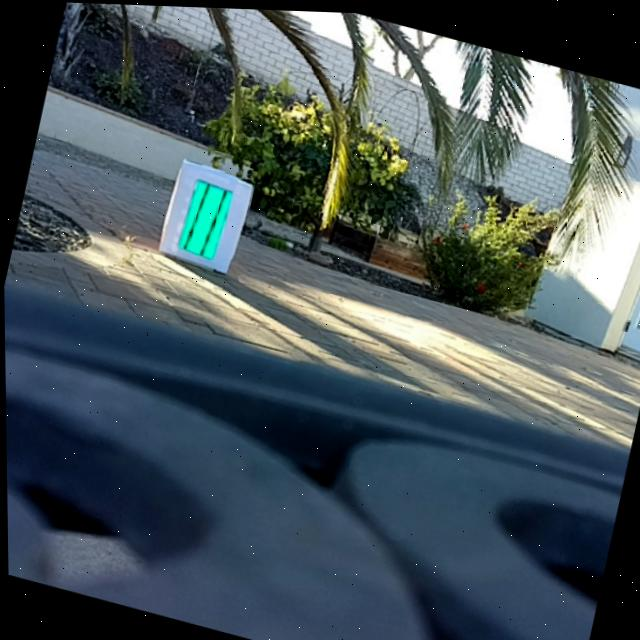led: (174, 175, 233, 260)
